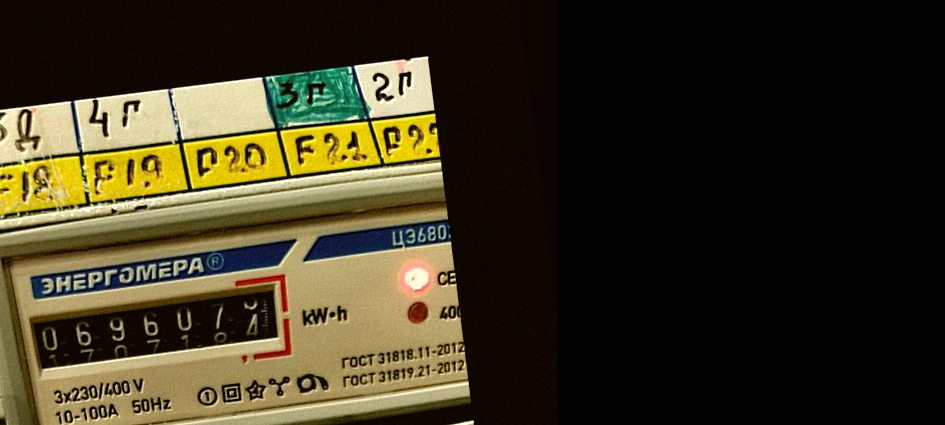0: (174, 303, 196, 335), (40, 324, 61, 354)
4: (242, 309, 263, 340)
6: (141, 308, 162, 339), (74, 318, 94, 348)
7: (208, 299, 231, 333)
9: (107, 314, 128, 344)
screen: (16, 270, 301, 388)
